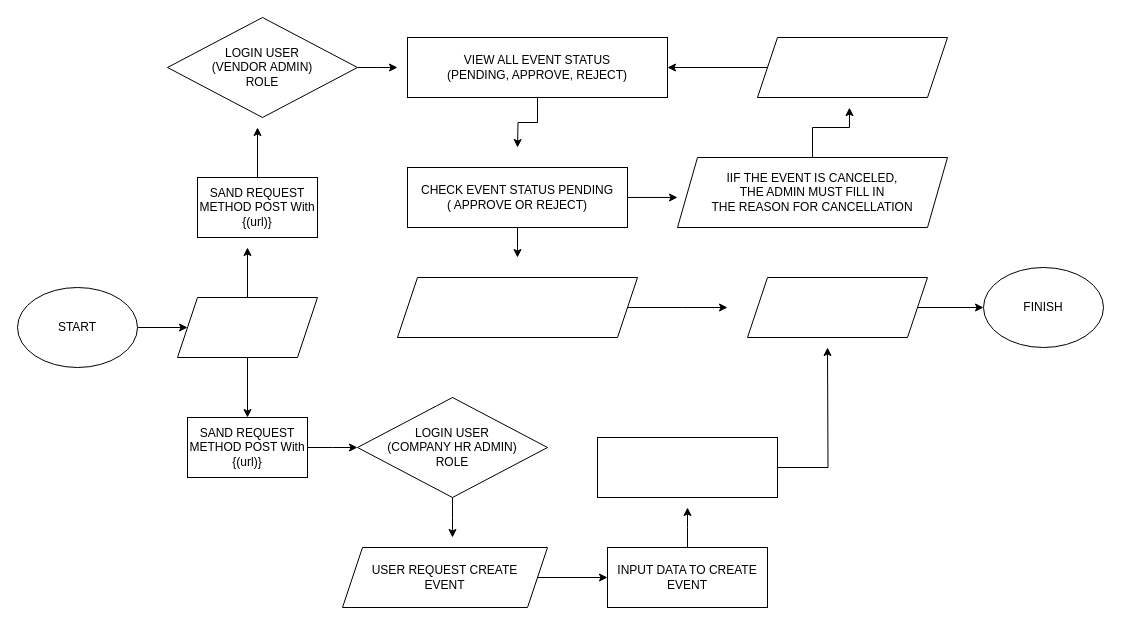
Some shapes in this 1121 by 625 pixel diagram are drawn without their labels. The shapes that lost their labels are listed below. From the top down, each one's centre as x and y in pixels, then its label:
(x=852, y=67): SAND EVENT REJECT
(x=247, y=327): INPUT DATA: USERNAME &PASSWORD
(x=517, y=307): IF EVENT APPROVE VIEW EVENT TO ALL USER
(x=837, y=307): OUTPUT ( ALL EVENT APPROVE)
(x=687, y=467): SAND REQ PUBLISH EVENT TO ADMIN
